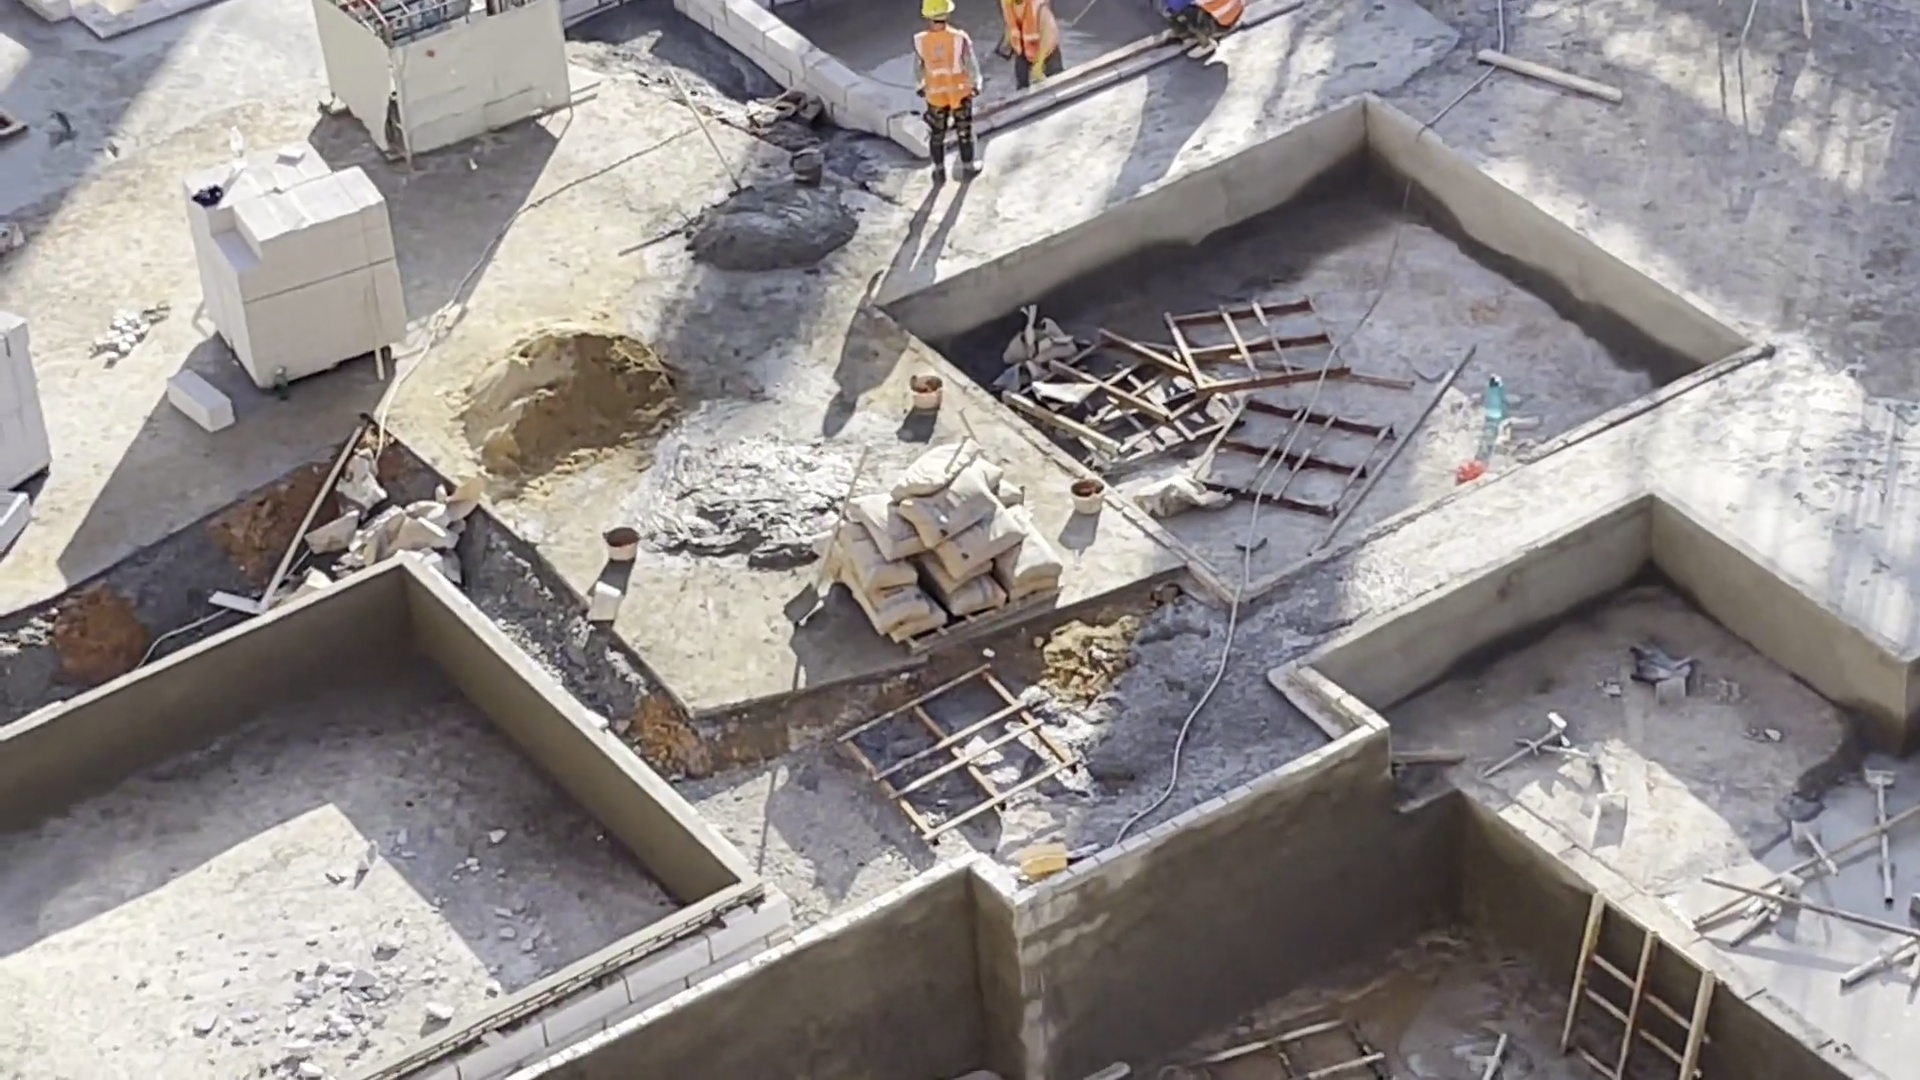helmet: (907, 1, 967, 29)
person: (899, 1, 999, 186), (993, 1, 1077, 86)
vest: (909, 26, 975, 116), (997, 1, 1052, 55)
